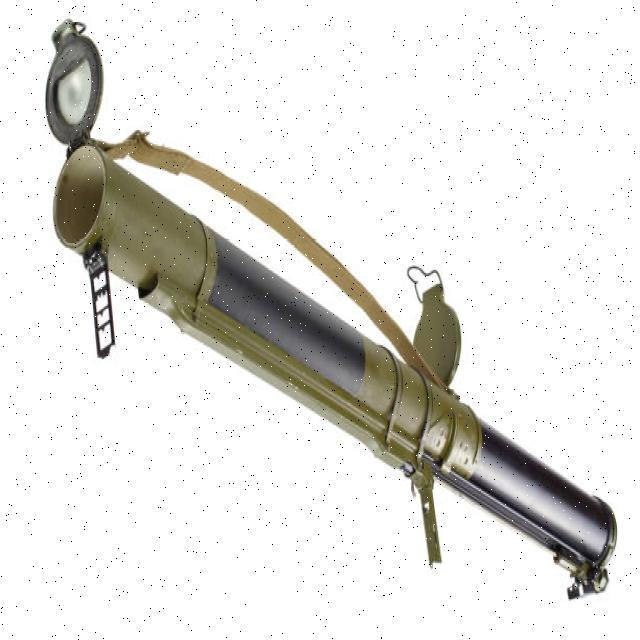bazooka: (36, 14, 623, 608)
